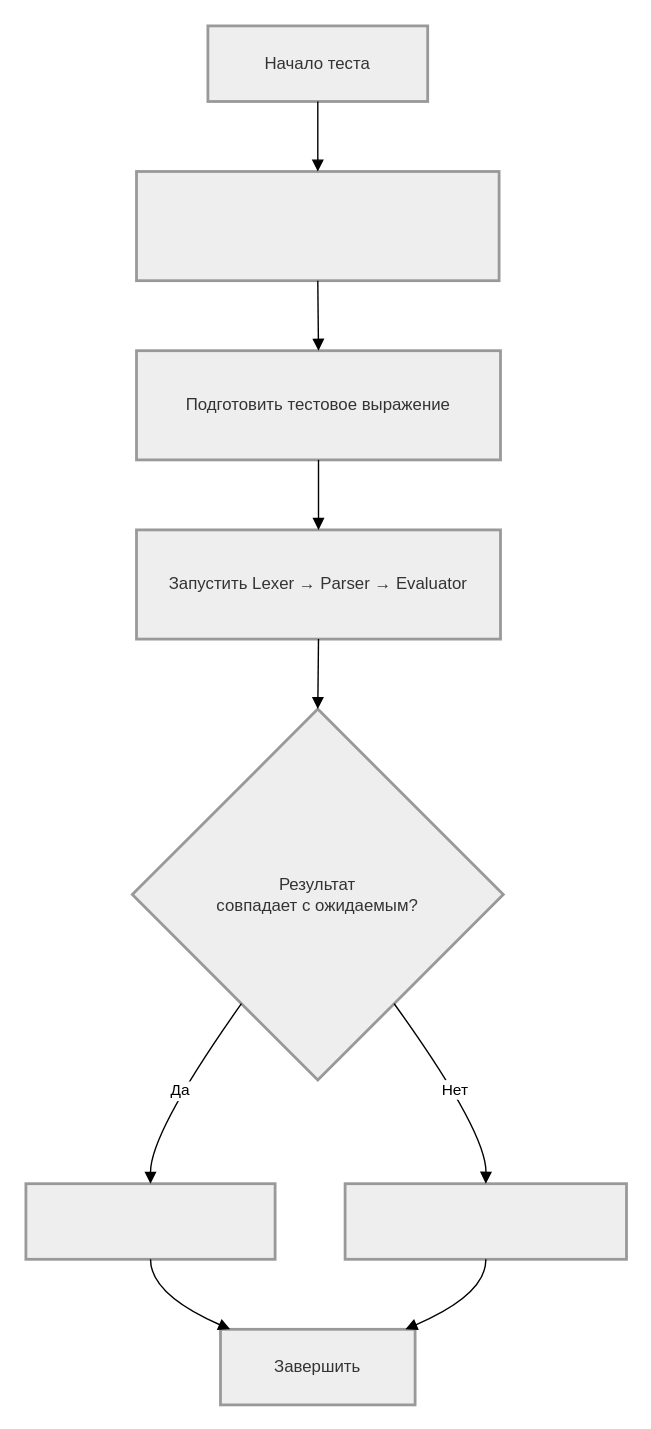
Image size: 651x1429. Some labels were removed from this diagram. Each missing label, with the centre of its shape:
setUp: создать VariableStorage и Evaluator: point 317,225
Тест не пройден ✗: point 485,1221
Тест пройден ✓: point 150,1221
